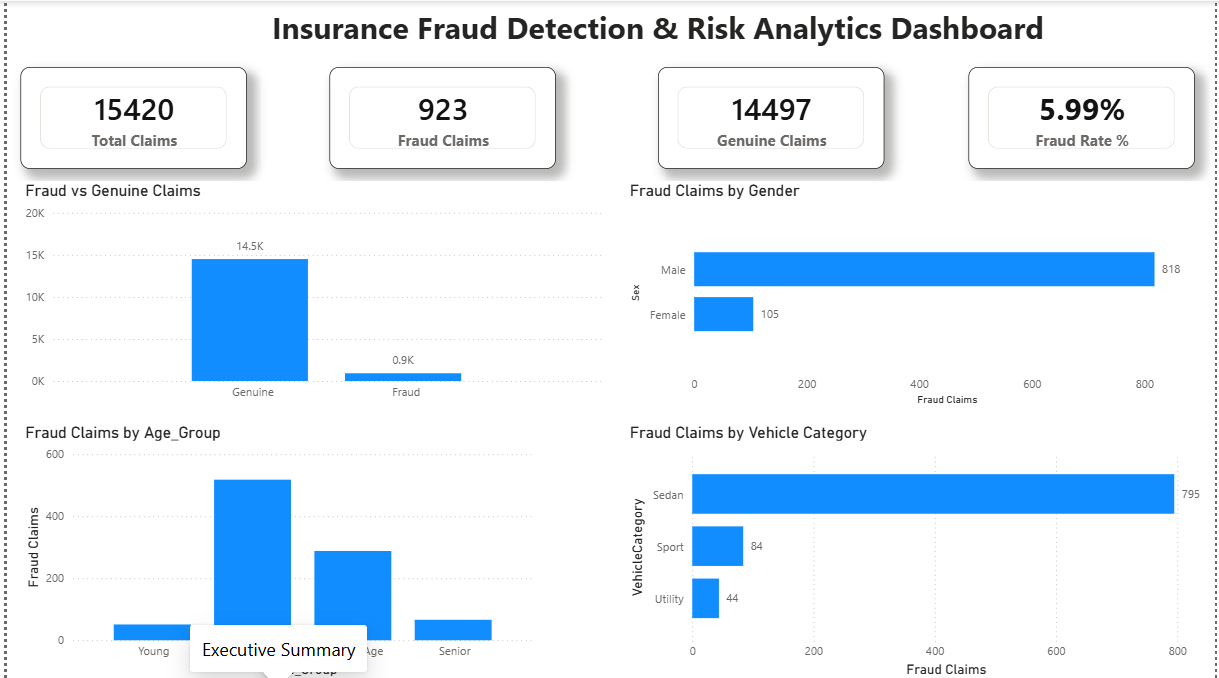

This screenshot's page, from the dashboard's own definition file:
{"tool":"powerbi","page":{"name":"Executive Summary","canvas":[1280,720],"ordinal":0},"visuals":[{"type":"cardVisual","fields":{"Data":["insurance_cleaned.Total Claims"]},"box":[14.3,70,240,108.2],"z":0},{"type":"cardVisual","fields":{"Data":["insurance_cleaned.Fraud Claims"]},"box":[342,70,240.2,108.2],"z":1000},{"type":"cardVisual","fields":{"Data":["insurance_cleaned.Genuine Claims"]},"box":[690.3,70,240,108.2],"z":2000},{"type":"cardVisual","fields":{"Data":["insurance_cleaned.Fraud Rate %"]},"box":[1019.6,70,240,108.2],"z":3000},{"type":"clusteredColumnChart","title":"Fraud vs Genuine Claims","fields":{"Category":["insurance_cleaned.Claim Type"],"Y":["CountNonNull(insurance_cleaned.Claim Type)"]},"box":[14.3,190.9,625.1,241.8],"z":4000},{"type":"clusteredBarChart","title":"Fraud Claims by Gender","fields":{"Category":["insurance_cleaned.Sex"],"Y":["insurance_cleaned.Fraud Claims"]},"box":[655.3,190.9,625.1,241.8],"z":5000},{"type":"columnChart","fields":{"Y":["insurance_cleaned.Fraud Claims"],"Category":["insurance_cleaned.Age_Group"]},"box":[14.3,447,550.4,273.6],"z":6000},{"type":"clusteredBarChart","title":"Fraud Claims by Vehicle Category","fields":{"Category":["insurance_cleaned.VehicleCategory"],"Y":["insurance_cleaned.Fraud Claims"]},"box":[655.3,447,625.1,273.6],"z":7000},{"type":"textbox","box":[100.2,0,1180.2,57.3],"z":8001}]}

Visuals, with their boxes in screenshot pixels (x1, y1, x2, y2), scaled from the page's 1280x720 canvas onto the 1219x678 screenshot:
cardVisual - insurance_cleaned.Total Claims: (14, 66, 242, 168)
cardVisual - insurance_cleaned.Fraud Claims: (326, 66, 554, 168)
cardVisual - insurance_cleaned.Genuine Claims: (657, 66, 886, 168)
cardVisual - insurance_cleaned.Fraud Rate %: (971, 66, 1200, 168)
"Fraud vs Genuine Claims" clusteredColumnChart: (14, 180, 609, 407)
"Fraud Claims by Gender" clusteredBarChart: (624, 180, 1218, 407)
columnChart - insurance_cleaned.Fraud Claims x insurance_cleaned.Age_Group: (14, 421, 538, 677)
"Fraud Claims by Vehicle Category" clusteredBarChart: (624, 421, 1218, 677)
textbox: (95, 0, 1218, 54)
